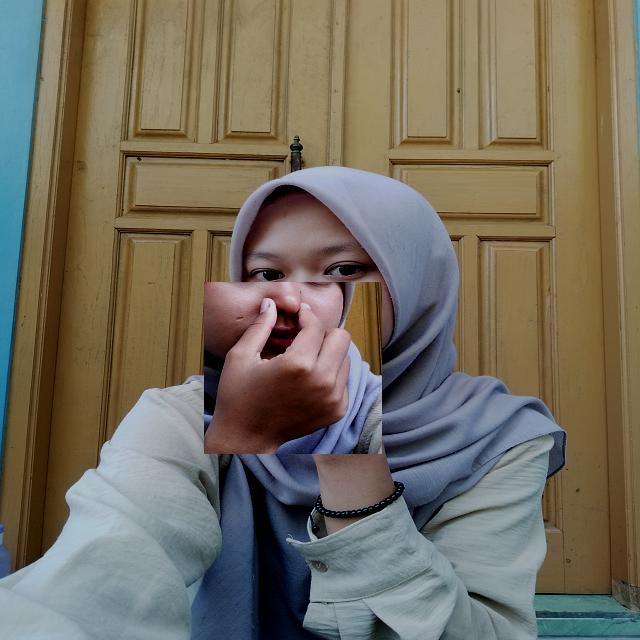bau: (204, 282, 382, 454)
